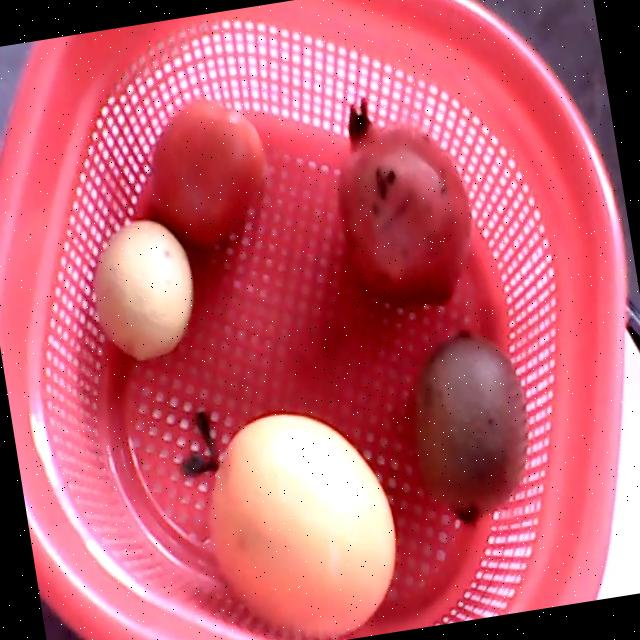kiwi: (420, 329, 526, 521)
lemon: (94, 219, 194, 360)
orange: (212, 413, 397, 636)
pomegranate: (336, 95, 473, 304)
tomato: (151, 98, 265, 248)
